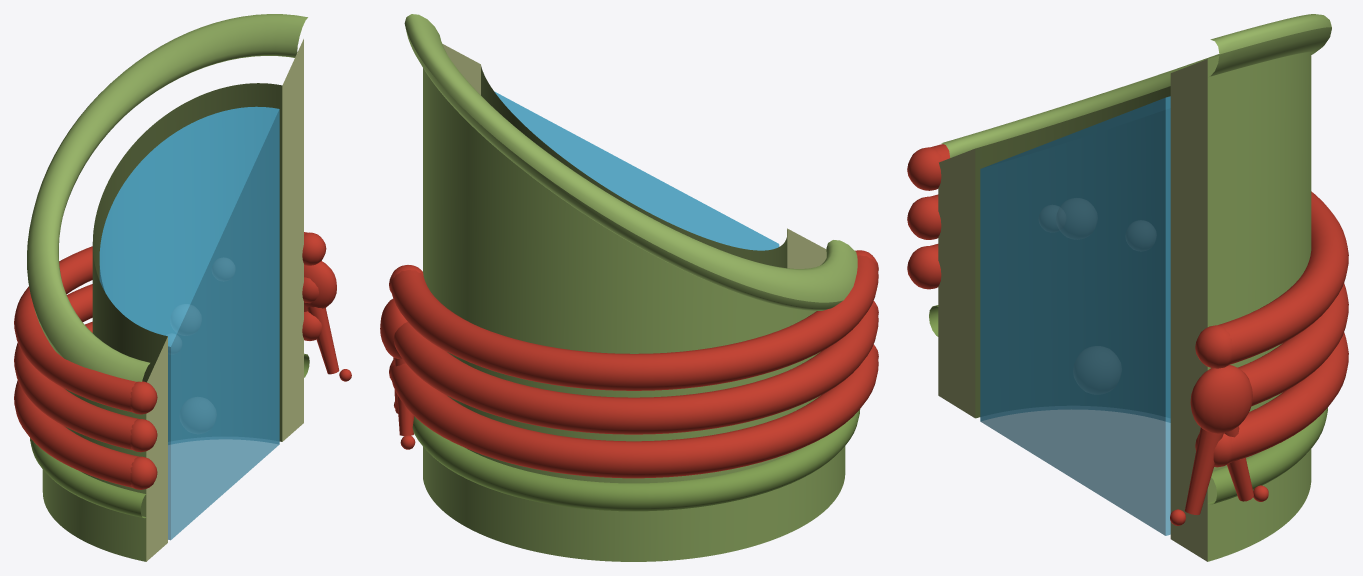
File: bamboo-water-pipe-half.glb
3 views of the same model, side by side, from view 1: azimuth 30°, elevation 25°; view 2: azimuth 150°, elevation 25°; view 3: azimuth 270°, elevation 25° (orthographic). The views are drawn at different scales.
Visible parts, largest first — view 1: water_back, water_face, water_surface, string, pipe_lip, pipe_bore, wall_cap_right, pipe_outer, wall_cap_left, bamboo_node_ring, string_knot; view 2: pipe_outer, string, pipe_lip, bamboo_node_ring, water_surface, water_face, pipe_bore, wall_cap_left, string_knot, wall_cap_right; view 3: water_face, water_back, pipe_outer, string, wall_cap_right, wall_cap_left, pipe_lip, pipe_bore, string_knot, bamboo_node_ring, water_surface.
Part boxes in pixels (<box>): water_back: <box>99,107,278,540</box>; water_face: <box>171,109,279,539</box>; water_surface: <box>99,106,279,346</box>; string: <box>14,232,351,489</box>; pipe_lip: <box>27,14,307,381</box>; pipe_bore: <box>92,83,282,441</box>; wall_cap_right: <box>282,39,303,441</box>; pipe_outer: <box>42,389,146,561</box>; wall_cap_left: <box>146,337,167,561</box>; bamboo_node_ring: <box>30,353,309,518</box>; string_knot: <box>304,261,336,308</box>; pipe_outer: <box>423,68,845,561</box>; string: <box>389,250,878,478</box>; pipe_lip: <box>404,14,857,310</box>; bamboo_node_ring: <box>412,409,860,511</box>; water_surface: <box>494,91,779,250</box>; water_face: <box>495,92,778,249</box>; pipe_bore: <box>481,66,787,268</box>; wall_cap_left: <box>787,228,826,268</box>; string_knot: <box>380,299,407,358</box>; wall_cap_right: <box>442,44,480,94</box>; water_face: <box>980,97,1165,535</box>; water_back: <box>981,96,1170,535</box>; pipe_outer: <box>1207,52,1311,561</box>; string: <box>907,144,1348,525</box>; wall_cap_right: <box>1170,59,1207,561</box>; wall_cap_left: <box>938,149,975,417</box>; pipe_lip: <box>941,14,1331,157</box>; pipe_bore: <box>975,86,1170,418</box>; string_knot: <box>1190,365,1252,433</box>; bamboo_node_ring: <box>929,305,1327,504</box>; water_surface: <box>990,97,1169,165</box>.
Bounding box in the file's own units: 0.2982 × 0.3282 × 0.2502.
